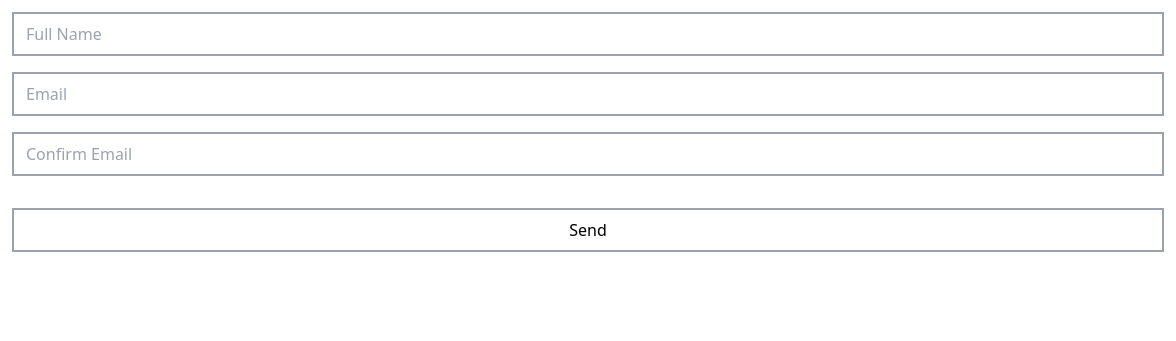
Scenario: RequestInviteForm component › should display all form-related errors when name and email are invalid
The image size is (1176, 341).
Type "a" into the field with test id "input-name".
click(588, 34); type("a")  # box left=12, top=12, right=1164, bottom=56
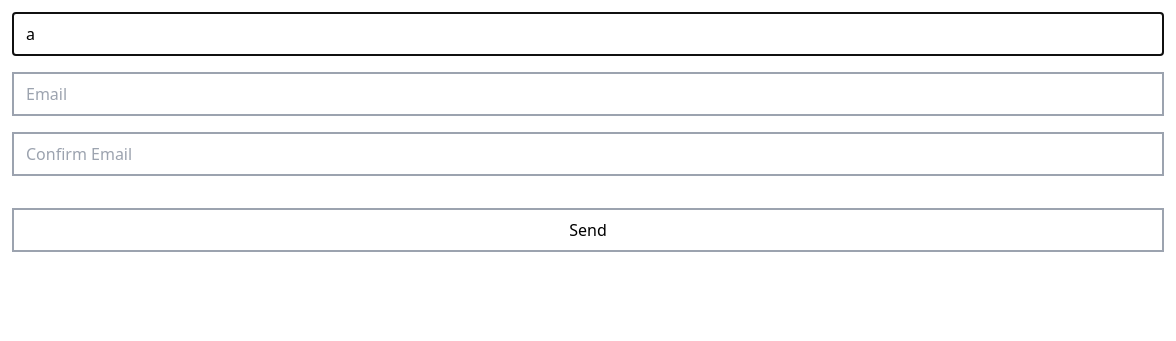
Type "a@a." into the field with test id "input-email".
click(588, 94); type("a@a.")  # box left=12, top=72, right=1164, bottom=116
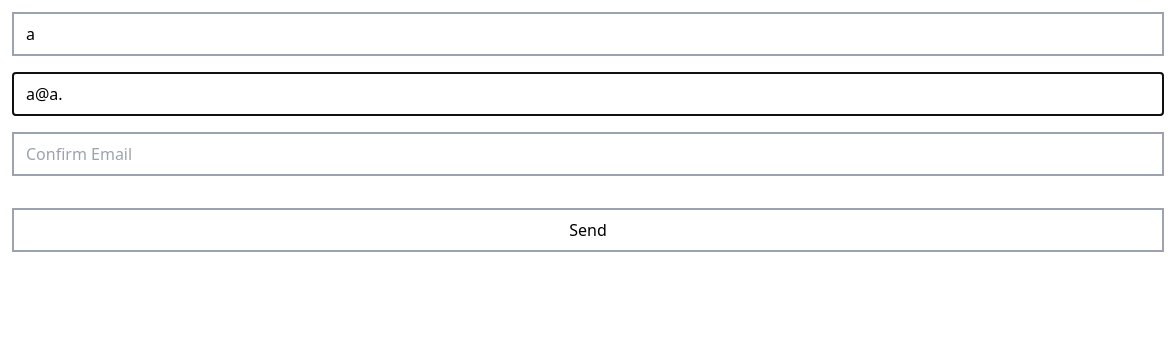
Click the button with test id "submit-button".
click(588, 230)  # box left=12, top=208, right=1164, bottom=252
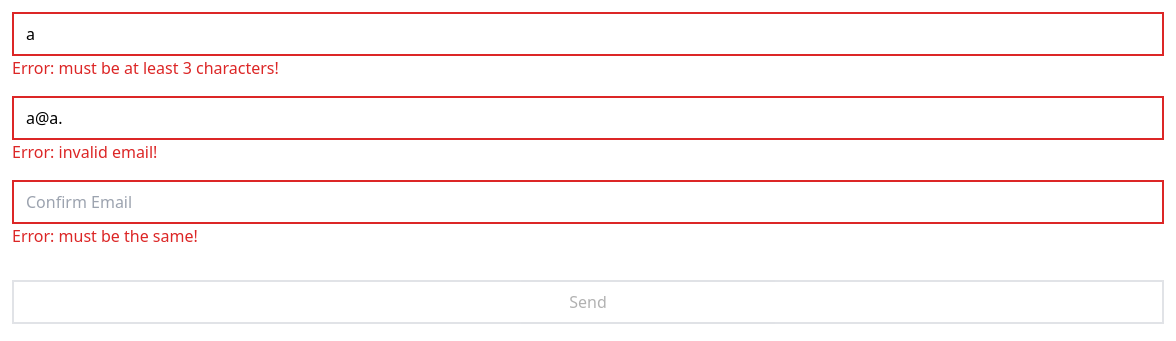
Result: the text "Error: must be at least 3 characters!" is shown at left=12, top=57, right=279, bottom=79
Result: the text "Error: invalid email!" is shown at left=12, top=141, right=157, bottom=163
Result: the text "Error: must be the same!" is shown at left=12, top=225, right=198, bottom=247
